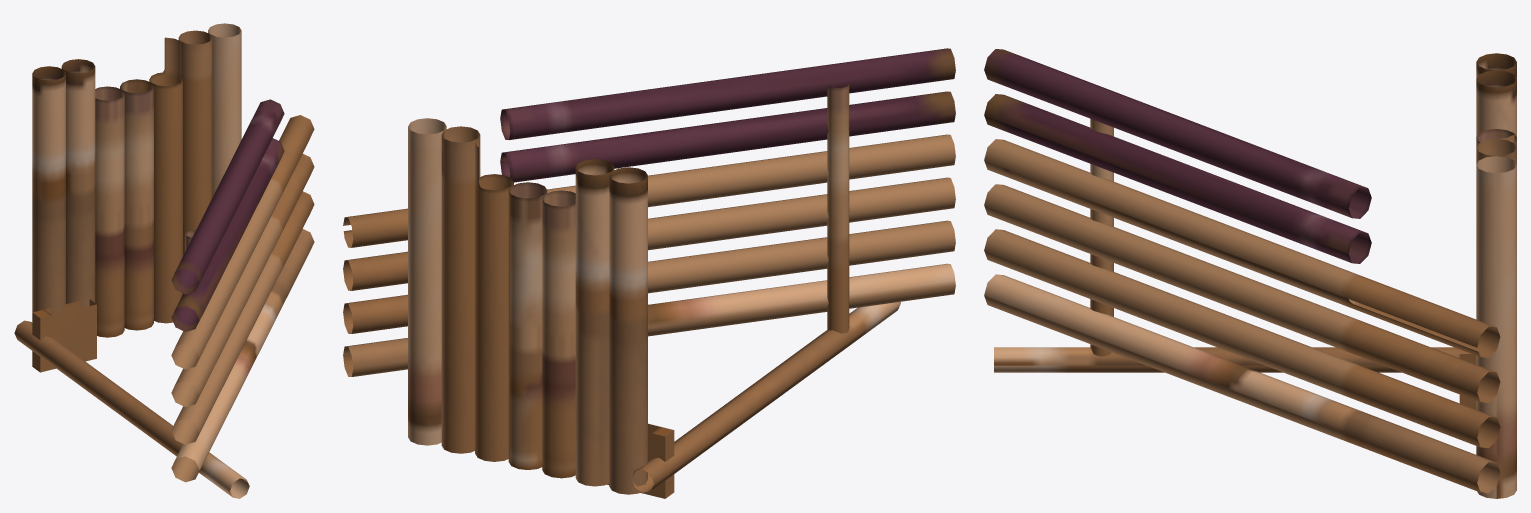
Rendered from section-7.obj.
3 views of the same model, side by side, from view 1: azimuth 30°, elevation 25°; view 2: azimuth 150°, elevation 25°; view 3: azimuth 270°, elevation 25° (orthographic). The views are drawn at different scales.
Bounding box in the file's own units: 1.27 × 1.01 × 1.45.
